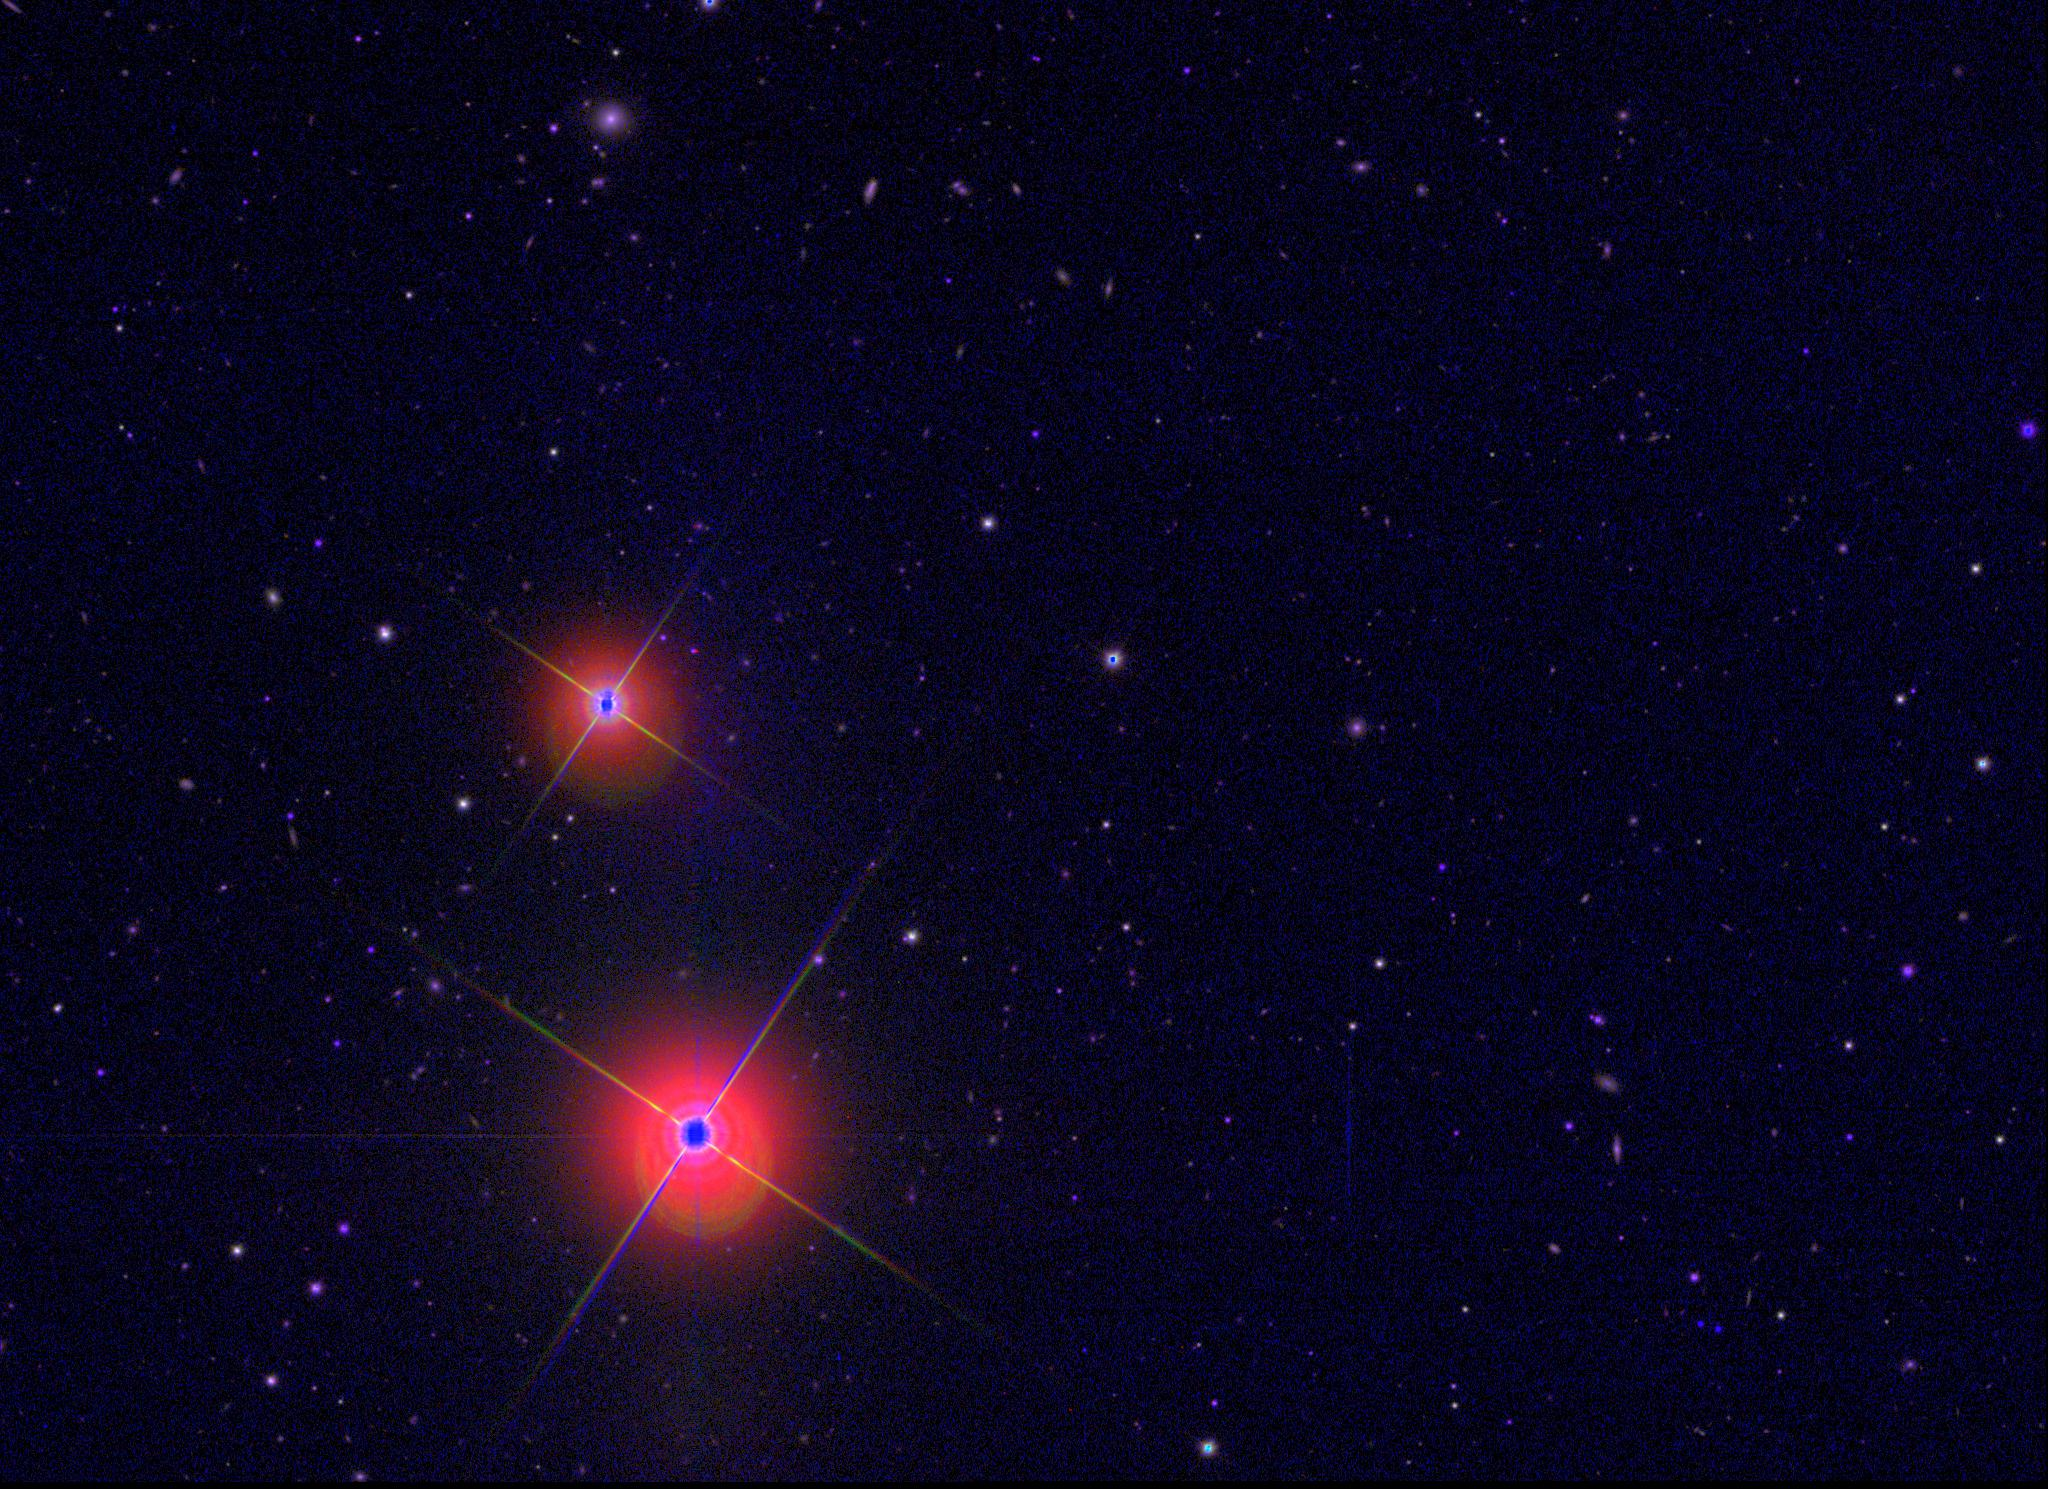L: (1693, 1319, 1708, 1332)
